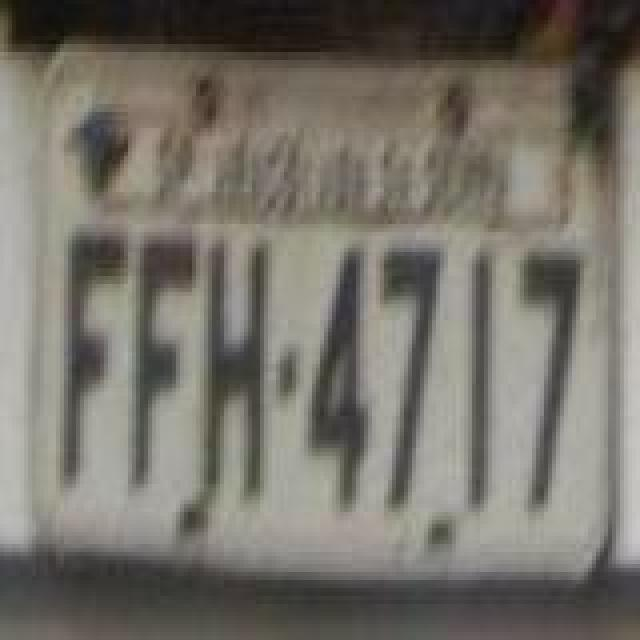1: (468, 250, 492, 510)
4: (306, 250, 366, 510)
7: (518, 250, 586, 510), (380, 246, 444, 514)
F: (56, 230, 128, 490), (126, 230, 194, 490)
H: (200, 238, 264, 506)
